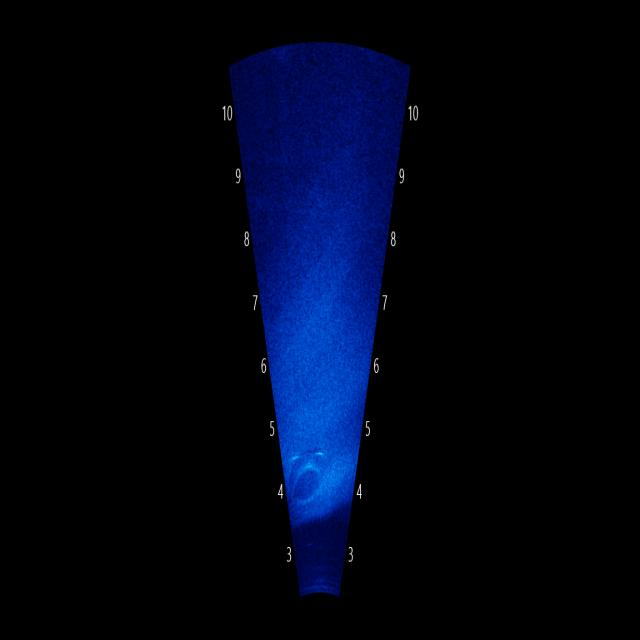circle: (288, 446, 329, 514)
